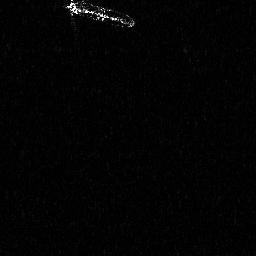ship: (64, 1, 137, 29)
